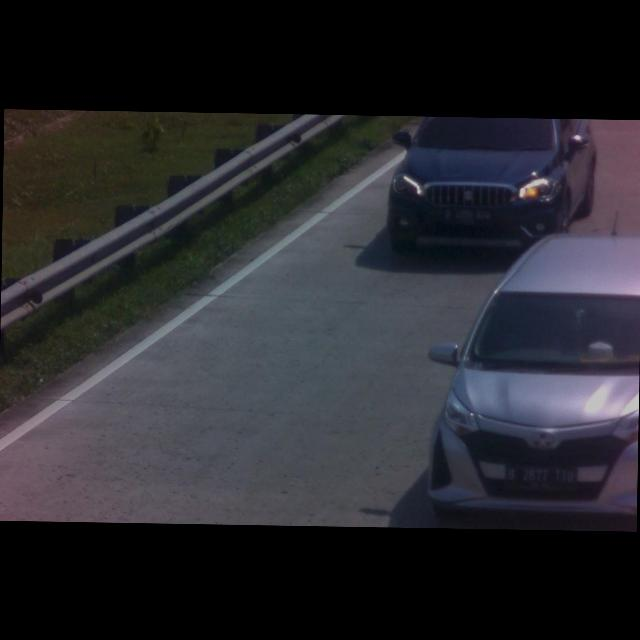plate: (503, 463, 578, 491)
